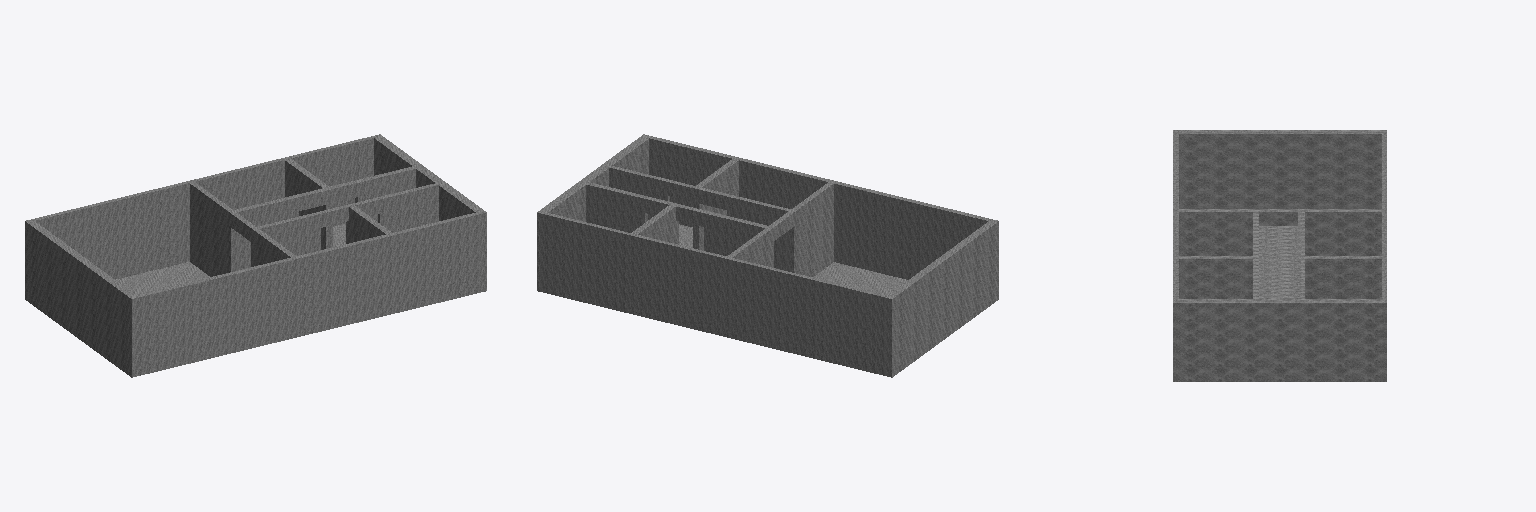
The picture shows the model from 3 angles: view 1: azimuth 30°, elevation 25°; view 2: azimuth 150°, elevation 25°; view 3: azimuth 270°, elevation 25°; orthographic projection.
Parts seen in each view (by area): view 1: Paredes; view 2: Paredes; view 3: Paredes.
Boxes of the visible parts, box(x1,y1,x2,y2) form: Paredes: box(25, 134, 486, 377); Paredes: box(537, 134, 998, 377); Paredes: box(1173, 130, 1386, 381).
Size of the model in its own units: 397 by 83.76 by 207.
1 materials, 1 textured.